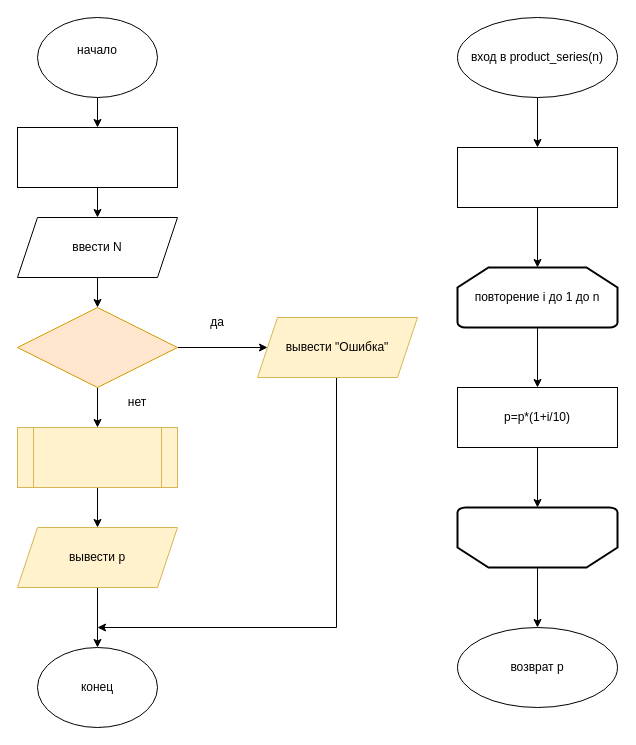
Image size: 636x745. Some labels were removed from this diagram. Here are the shapes that lost their labels. From the top down, the centre of each, then its label:
At (97,157): "установить локализацию".
At (537,177): "p=1".
At (97,347): "N < 1?".
At (97,457): "p=product_series(N)".
At (537,537): "конец повторений".
